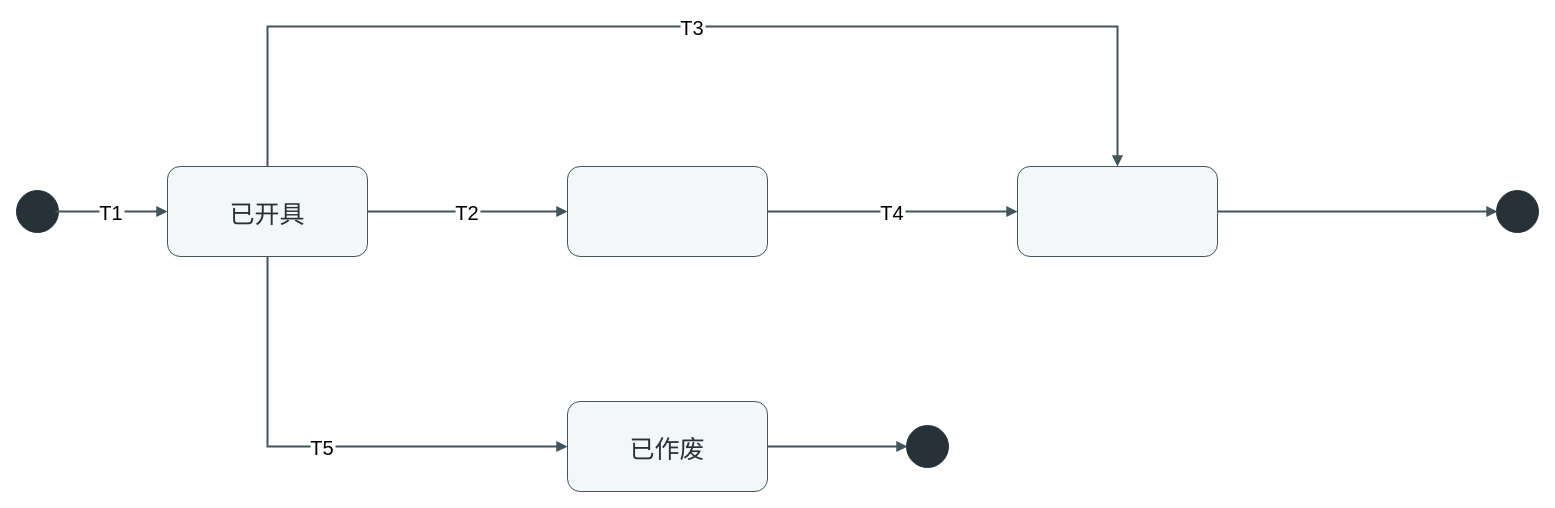
The diagram is 1555 pixels wide and 508 high, and some of its shapes have lost their labels. Here are the shapes that lost their labels. From the top down, the centre of each, then its label:
At point (667, 211): "部分收款".
At point (1117, 211): "已结清".
